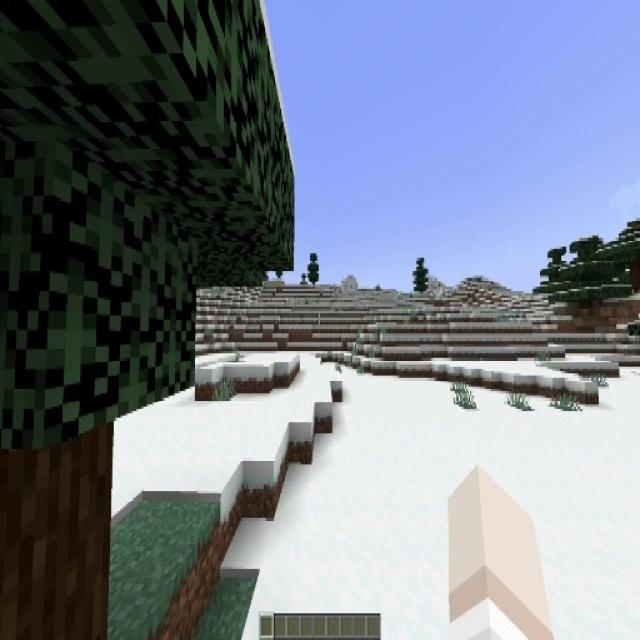spruce: (558, 234, 615, 311), (412, 257, 430, 296), (307, 252, 319, 286)
spruce_log: (0, 421, 114, 640), (629, 262, 640, 291), (580, 299, 592, 310)
